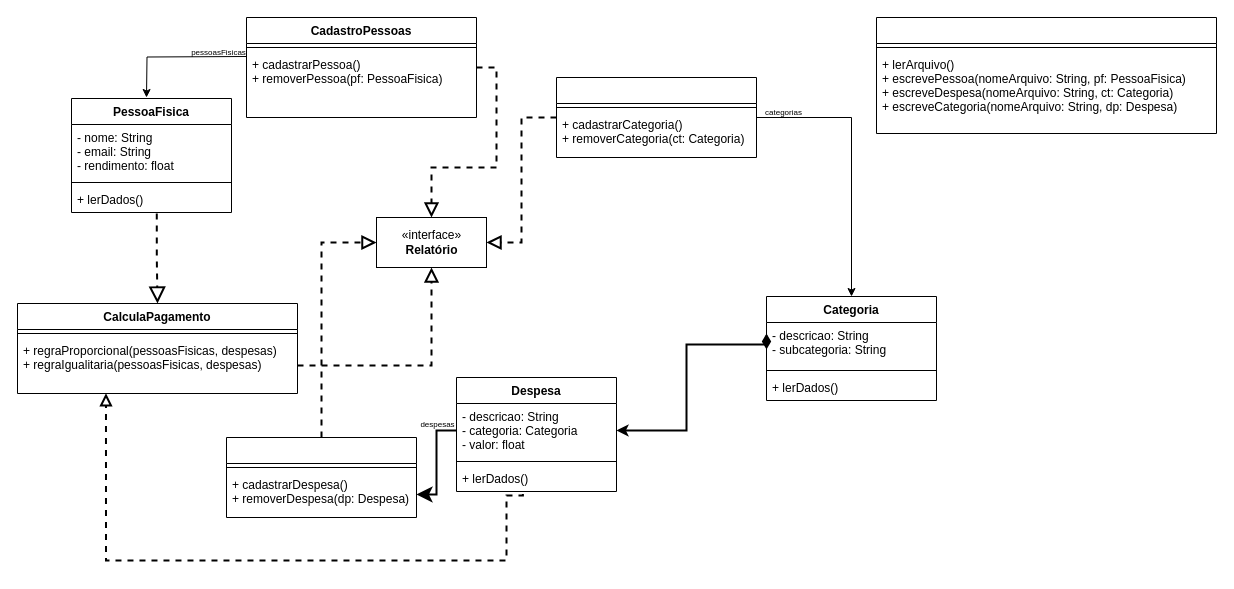
The diagram is 1234 pixels wide and 589 high, and some of its shapes have lost their labels. Here are the shapes that lost their labels. From the top down, the box of each, then its label:
(876, 16, 1216, 134): PersisteDados
(556, 76, 756, 158): CadastroCategorias
(226, 436, 416, 518): CadastroDespesas
